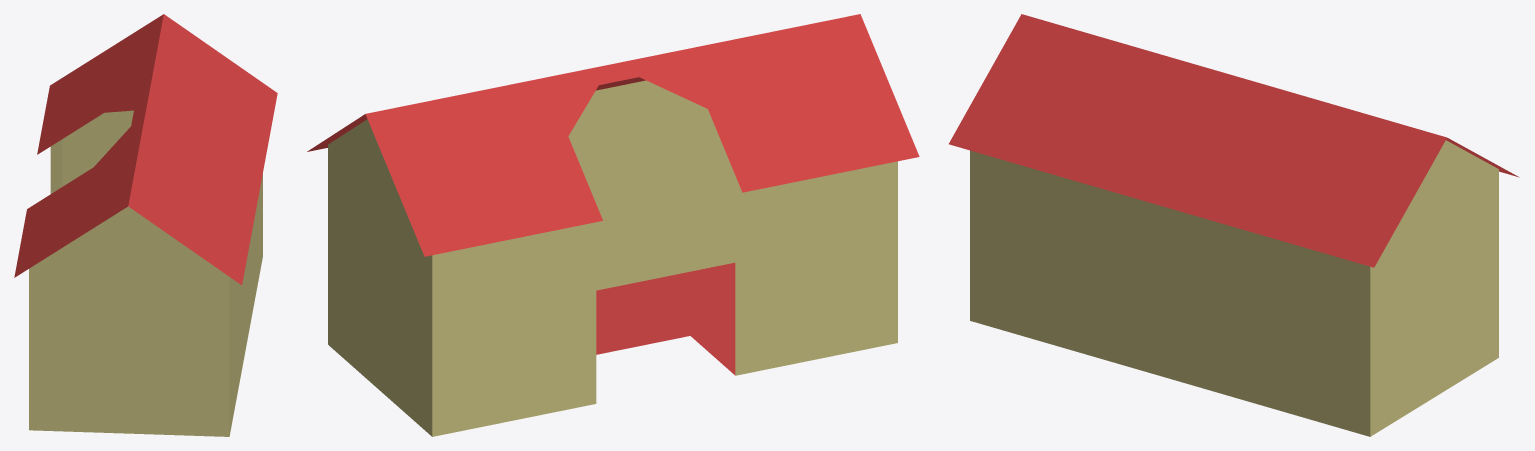
3 views of the same model, side by side, from view 1: azimuth 30°, elevation 25°; view 2: azimuth 150°, elevation 25°; view 3: azimuth 270°, elevation 25° (orthographic). The views are drawn at different scales.
Bounding box in the file's own units: 24.62 × 27.86 × 14.16.
